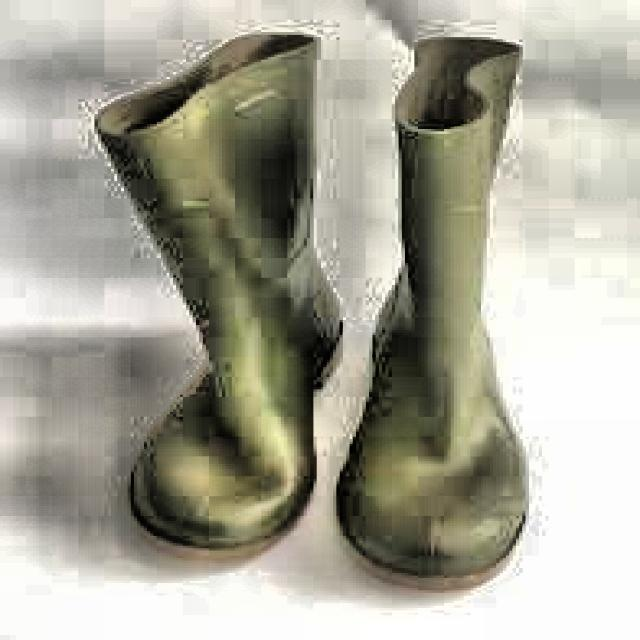shoes: (29, 24, 618, 600)
